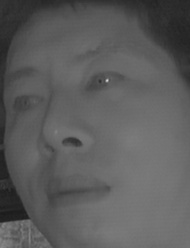eye: (83, 67, 126, 96), (8, 92, 46, 118)
mouth: (43, 171, 110, 215)
